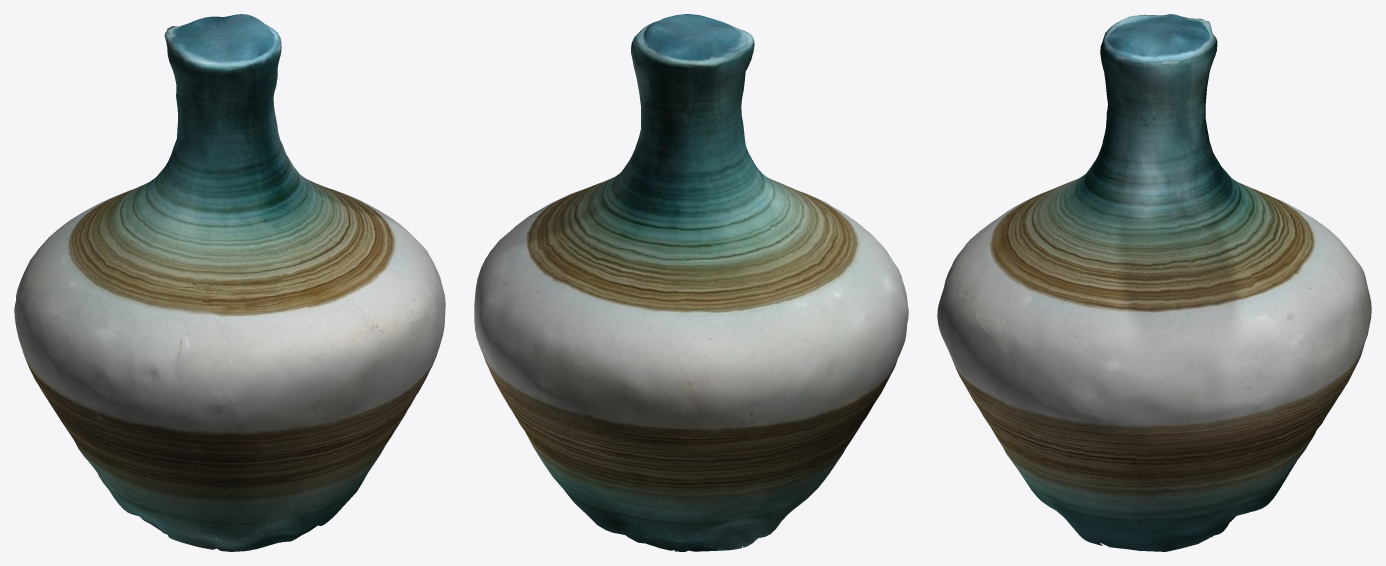
Rendered from jarron2.glb.
The picture shows the model from 3 angles, left to right: view 1: azimuth 30°, elevation 25°; view 2: azimuth 150°, elevation 25°; view 3: azimuth 270°, elevation 25°; orthographic projection.
Visible parts, largest first — view 1: Mesh_0; view 2: Mesh_0; view 3: Mesh_0.
Part boxes in pixels (x1=…): Mesh_0: x1=14, y1=14, x2=445, y2=551; Mesh_0: x1=474, y1=14, x2=908, y2=551; Mesh_0: x1=937, y1=14, x2=1371, y2=551.
Bounding box in the file's own units: 0.8421 × 1.04 × 0.8499.
1 material, 1 textured.
